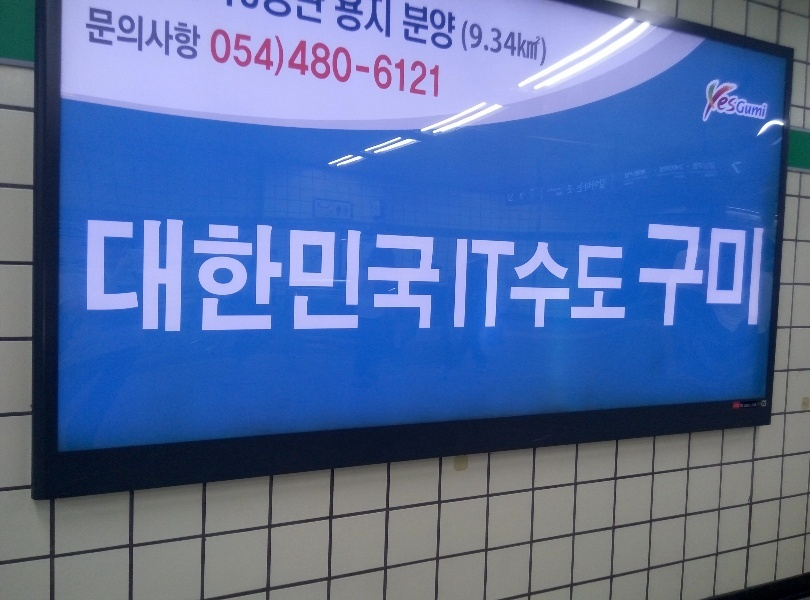text: (97, 214, 112, 333), (113, 214, 128, 333), (129, 214, 144, 333), (145, 214, 160, 333), (161, 214, 176, 333), (177, 214, 192, 333), (193, 214, 208, 333), (209, 214, 224, 333), (225, 214, 240, 333), (241, 214, 256, 333), (257, 214, 272, 333), (273, 214, 288, 333), (289, 214, 304, 333), (305, 214, 320, 333), (321, 214, 336, 333), (337, 214, 352, 333), (353, 214, 368, 333), (369, 214, 384, 333), (385, 214, 400, 333), (401, 214, 416, 333), (417, 214, 432, 333), (657, 222, 672, 327), (673, 222, 688, 327), (689, 222, 704, 327), (705, 222, 720, 327), (721, 222, 736, 327), (737, 222, 752, 327), (465, 237, 480, 330), (481, 237, 496, 330), (497, 237, 512, 330), (529, 240, 544, 329), (545, 240, 560, 329), (561, 240, 576, 329), (577, 240, 592, 329), (593, 240, 608, 329), (609, 240, 624, 329), (86, 214, 96, 333), (433, 214, 443, 333), (753, 222, 764, 327), (516, 240, 528, 329), (647, 222, 656, 327), (305, 38, 320, 99), (321, 38, 336, 99), (337, 38, 352, 99), (353, 38, 368, 99), (369, 38, 384, 99), (385, 38, 400, 99), (401, 38, 416, 99), (417, 38, 432, 99), (97, 5, 112, 64), (113, 5, 128, 64), (129, 5, 144, 64), (145, 5, 160, 64), (161, 5, 176, 64), (177, 5, 192, 64), (455, 237, 464, 330), (209, 27, 224, 79), (225, 27, 240, 79), (241, 27, 256, 79), (257, 27, 272, 79), (417, 2, 432, 52), (433, 2, 448, 52), (465, 20, 480, 69), (481, 20, 496, 69), (497, 20, 512, 69), (513, 20, 528, 69), (529, 20, 544, 69), (403, 2, 416, 52), (721, 81, 736, 121), (337, 1, 352, 40), (353, 1, 368, 40), (369, 1, 384, 40), (273, 27, 284, 79), (87, 5, 96, 64), (193, 5, 202, 64), (708, 81, 720, 121), (433, 38, 439, 99), (241, 1, 256, 25), (257, 1, 272, 25), (273, 1, 288, 25), (289, 1, 304, 25), (305, 1, 320, 25), (226, 1, 240, 25), (449, 2, 455, 52), (738, 99, 752, 118), (753, 99, 767, 118), (300, 38, 304, 99), (385, 1, 391, 40), (577, 178, 592, 193), (593, 178, 607, 193), (513, 237, 515, 330), (625, 169, 640, 180), (461, 20, 464, 69), (657, 165, 672, 174), (689, 162, 704, 171), (737, 81, 740, 121), (673, 165, 685, 174), (625, 176, 640, 183), (657, 171, 672, 178), (566, 185, 576, 195), (705, 162, 716, 171), (546, 186, 560, 193), (545, 20, 547, 69), (321, 1, 325, 25), (321, 209, 333, 217), (730, 161, 736, 176), (625, 240, 626, 329), (673, 171, 685, 178), (334, 1, 336, 40), (529, 188, 544, 193), (689, 170, 704, 175), (519, 193, 528, 200), (705, 170, 717, 175), (737, 161, 741, 176), (740, 403, 752, 408), (625, 181, 634, 187), (705, 174, 718, 178), (641, 176, 648, 183), (673, 175, 685, 179), (641, 169, 645, 180), (757, 403, 768, 407), (317, 209, 320, 217), (762, 402, 768, 406), (556, 192, 560, 197), (686, 162, 688, 171), (753, 403, 756, 408), (561, 186, 563, 193), (733, 404, 736, 408), (737, 404, 740, 408), (561, 192, 563, 197), (655, 165, 656, 174), (623, 181, 624, 187), (687, 170, 688, 175), (703, 174, 704, 178)
